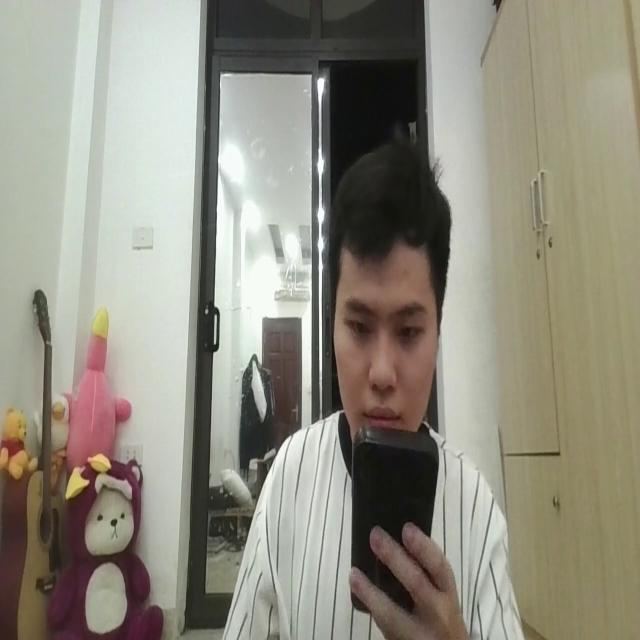phone: (344, 414, 440, 622)
student: (221, 130, 525, 640)
